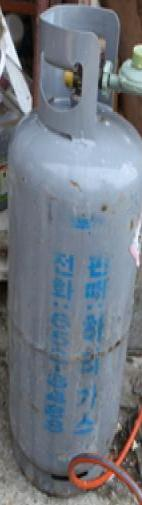cylinder: (0, 1, 142, 505)
